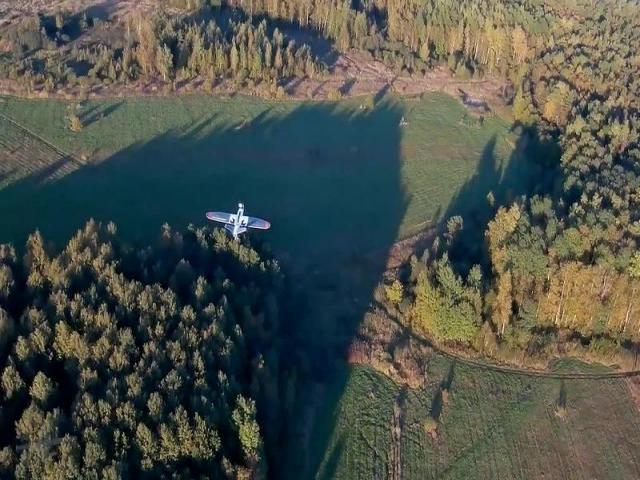hedef: (203, 198, 270, 244)
